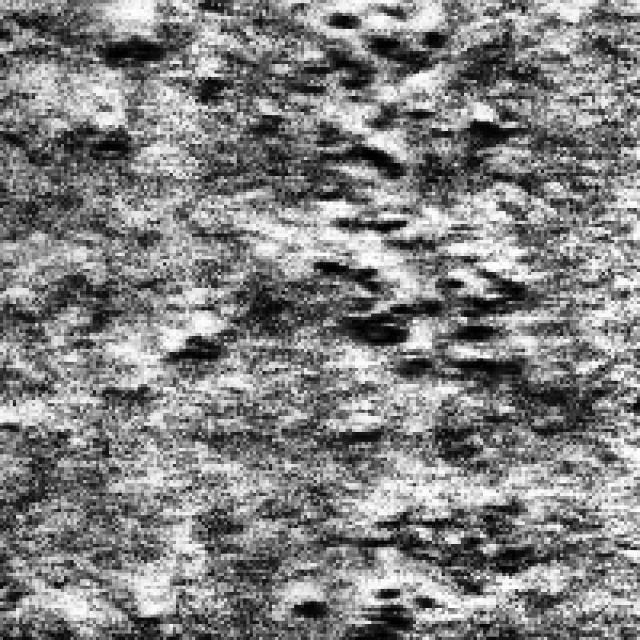Crazing: (231, 188, 518, 404), (185, 0, 502, 182), (3, 7, 163, 166), (282, 515, 442, 634)
